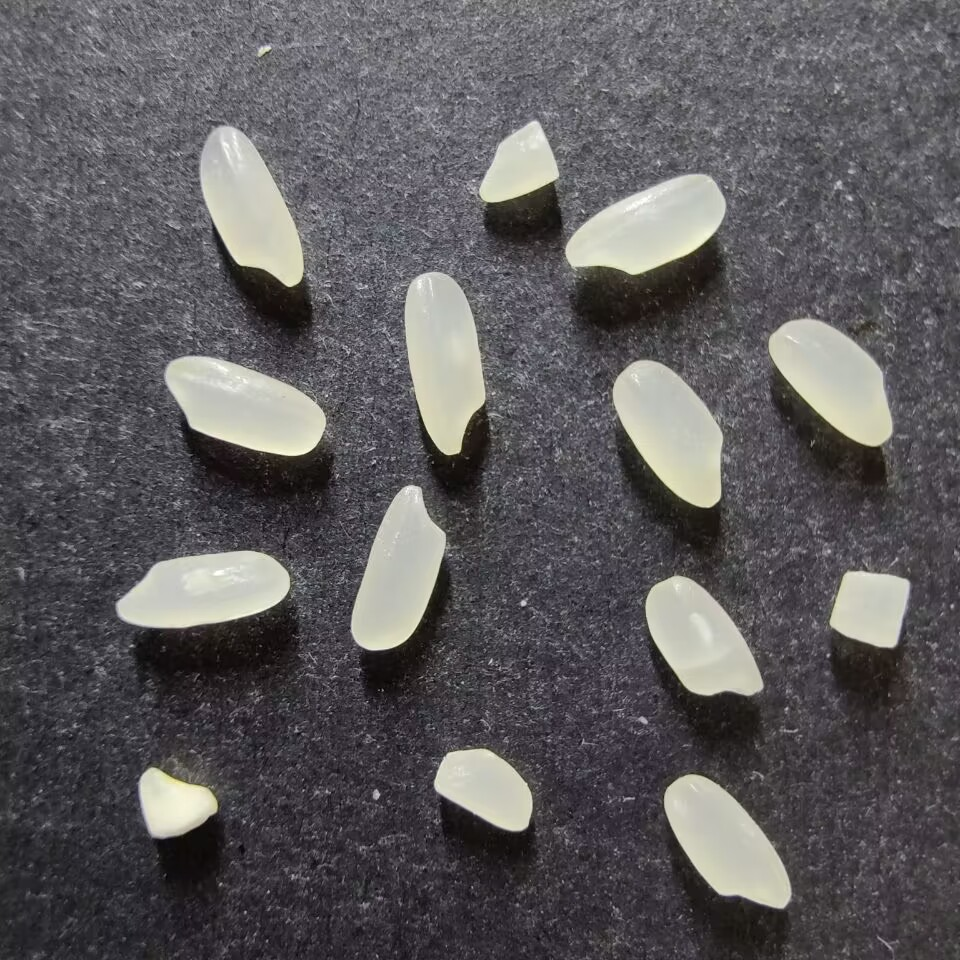broken: (433, 748, 533, 832), (478, 120, 559, 203), (828, 570, 909, 648), (137, 766, 218, 840)
rice: (662, 774, 790, 909), (198, 125, 303, 288), (611, 359, 723, 508), (565, 173, 726, 276), (163, 355, 325, 457), (767, 318, 893, 448), (349, 484, 446, 652), (403, 271, 485, 456), (644, 575, 764, 698), (115, 550, 290, 629)
